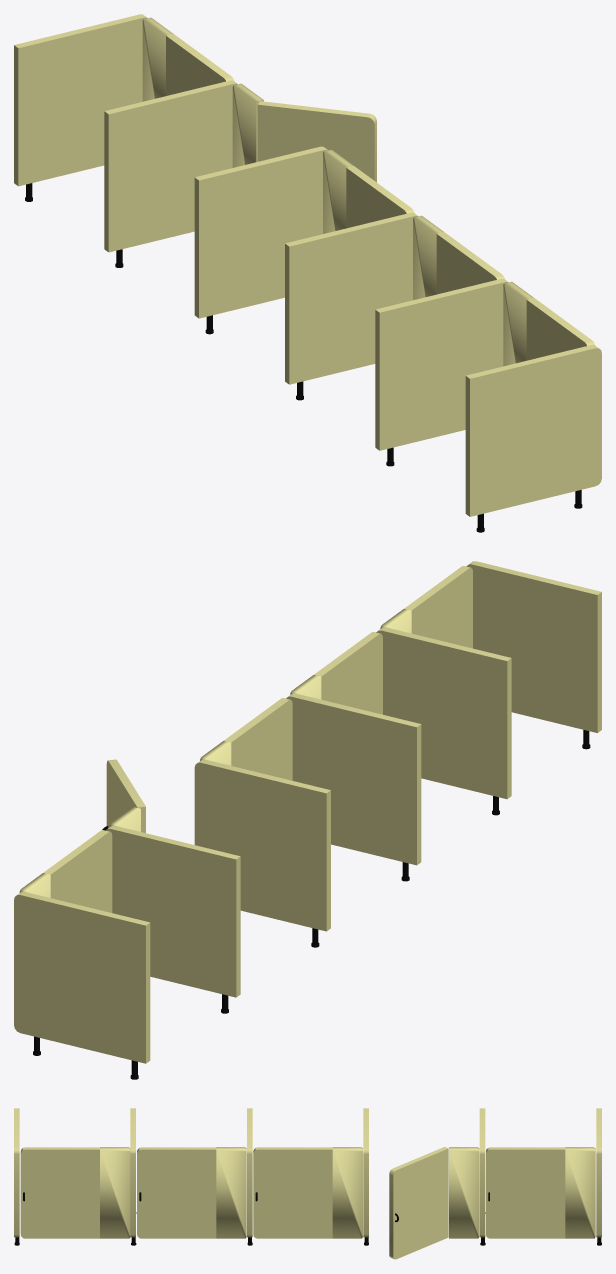
The model's file is DusKabini.fbx.
The picture shows the model from 3 angles, top to bottom: view 1: azimuth 30°, elevation 25°; view 2: azimuth 150°, elevation 25°; view 3: azimuth 270°, elevation 25°; orthographic projection. The views are drawn at different scales.
Visible parts, largest first — view 1: DusKabini; view 2: DusKabini; view 3: DusKabini.
Boxes of the visible parts, x1=… form: DusKabini: x1=14, y1=14, x2=601, y2=532; DusKabini: x1=14, y1=561, x2=601, y2=1079; DusKabini: x1=14, y1=1108, x2=601, y2=1259.
Size of the model in its own units: 307 by 227 by 1197.
